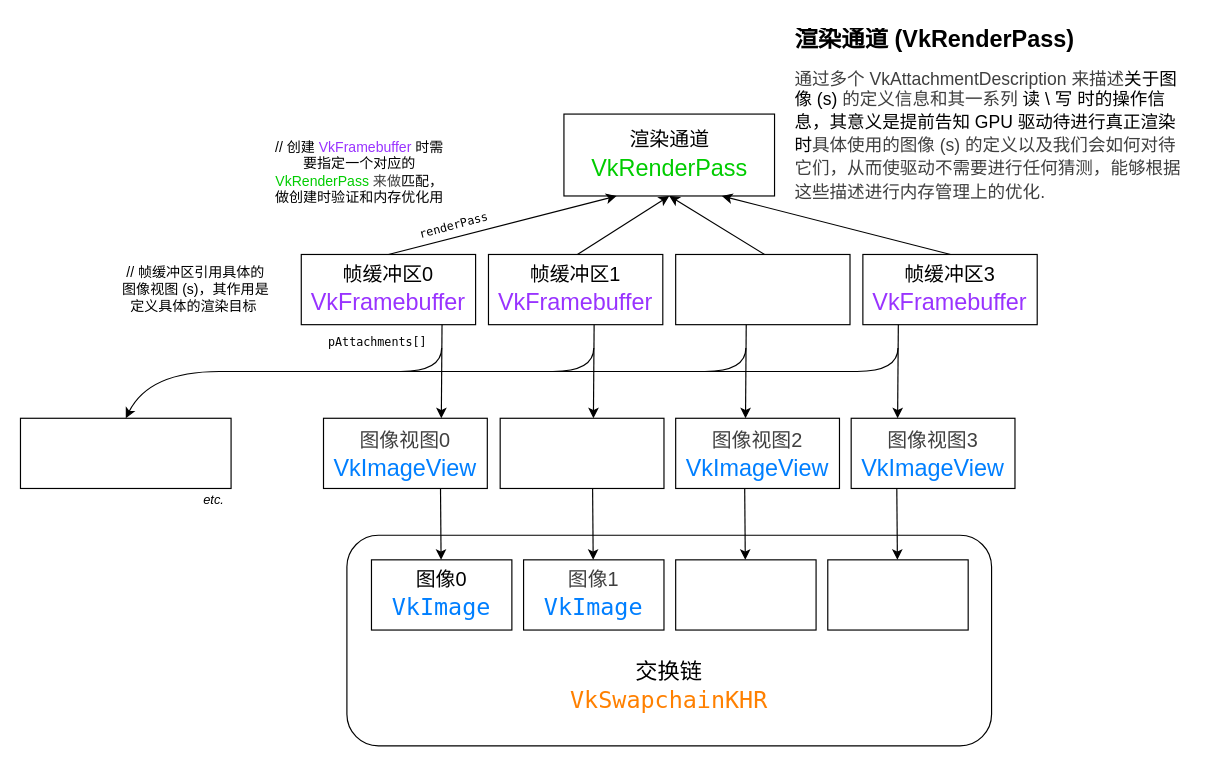
Image size: 1211x766. Some labels were removed from this diagram. Each missing label, with the centre of its shape:
"图像2 VkImage" goes at point 745,594.
"图像3 VkImage" goes at point 897,594.
"图像视图1 VkImageView" goes at point 581,452.
"帧缓冲区2 VkFramebuffer" goes at point 762,289.
"深度缓冲用图像视图 VkImageView" goes at point 125,452.
